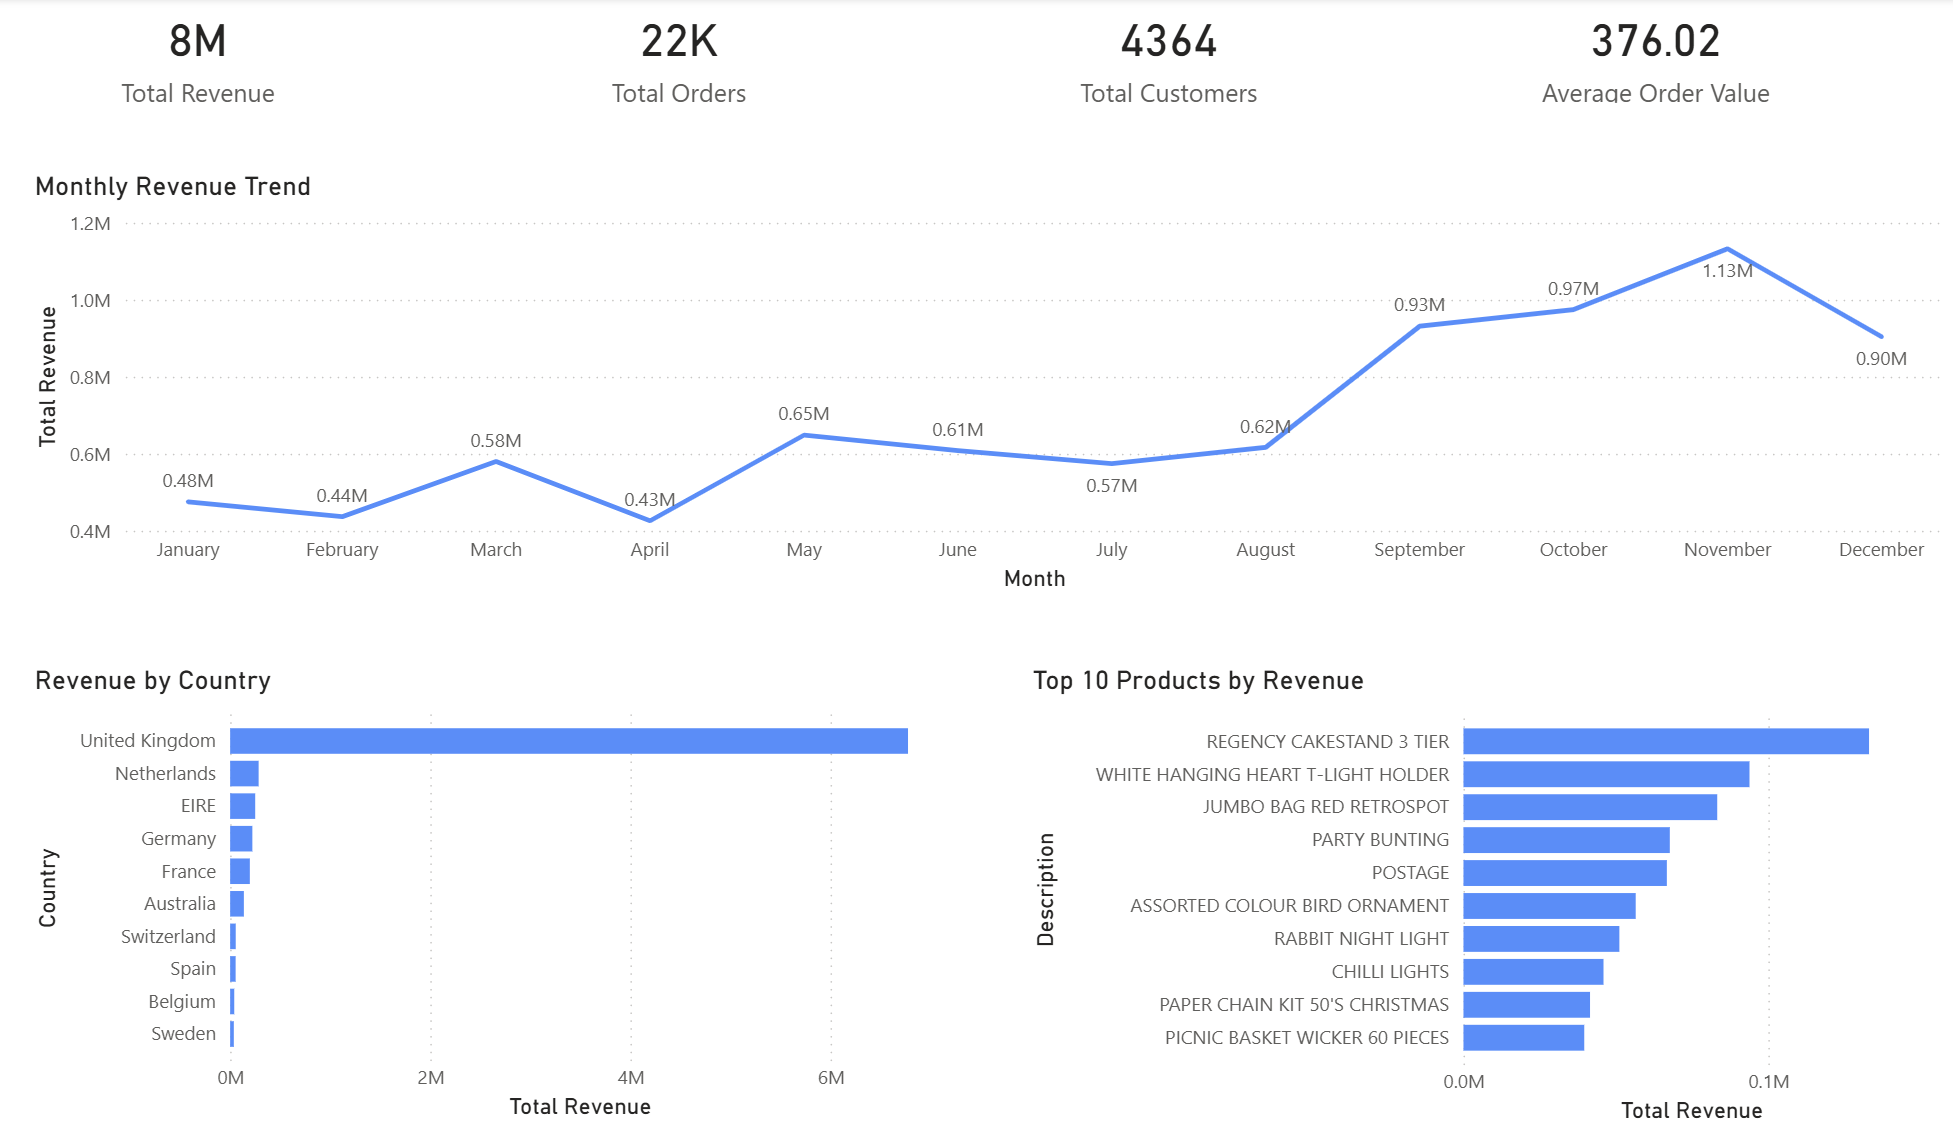

This screenshot's page, from the dashboard's own definition file:
{"tool":"powerbi","page":{"name":"Executive Overview","canvas":[1280,720],"ordinal":0},"visuals":[{"type":"card","fields":{"Values":["Online Retail.Total Revenue"]},"box":[0,0,261.4,72.7],"z":0},{"type":"card","fields":{"Values":["Online Retail.Total Orders"]},"box":[303.4,0,267.7,72.7],"z":1000},{"type":"card","fields":{"Values":["Online Retail.Total Customers"]},"box":[613.2,0,272.8,72.7],"z":2000},{"type":"card","fields":{"Values":["Online Retail.Average Order Value"]},"box":[928.1,0,263.9,72.7],"z":3000},{"type":"lineChart","title":"Monthly Revenue Trend","fields":{"Y":["Online Retail.Total Revenue"],"Category":["Online Retail.InvoiceDate.Variation.Date Hierarchy.Month"]},"box":[21.7,110.9,1226.5,272.8],"z":4000},{"type":"barChart","title":"Revenue by Country","fields":{"Category":["Online Retail.Country"],"Y":["Online Retail.Total Revenue"]},"box":[21.7,425.5,590,294.5],"z":5000},{"type":"clusteredBarChart","title":"Top 10 Products by Revenue","fields":{"Category":["Online Retail.Description"],"Y":["Online Retail.Total Revenue"]},"box":[657.8,425.8,590,297.1],"z":6000}]}

Visuals, with their boxes in screenshot pixels (x1, y1, x2, y2), scaled from the page's 1280x720 canvas onto the 1953x1126 screenshot:
card - Online Retail.Total Revenue: pyautogui.locateOnScreen(0, 0, 399, 114)
card - Online Retail.Total Orders: pyautogui.locateOnScreen(463, 0, 871, 114)
card - Online Retail.Total Customers: pyautogui.locateOnScreen(936, 0, 1352, 114)
card - Online Retail.Average Order Value: pyautogui.locateOnScreen(1416, 0, 1819, 114)
"Monthly Revenue Trend" lineChart: pyautogui.locateOnScreen(33, 173, 1904, 600)
"Revenue by Country" barChart: pyautogui.locateOnScreen(33, 665, 933, 1125)
"Top 10 Products by Revenue" clusteredBarChart: pyautogui.locateOnScreen(1004, 666, 1904, 1125)
